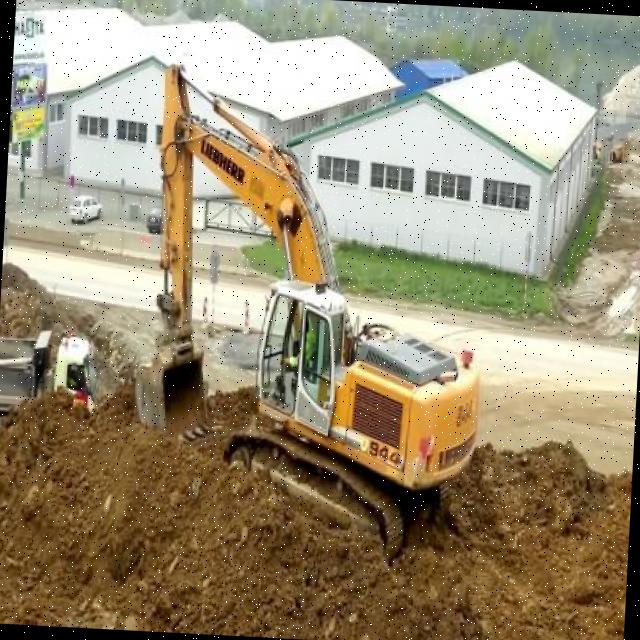Dump Truck: (0, 320, 102, 431)
Excavator: (121, 50, 500, 570)
